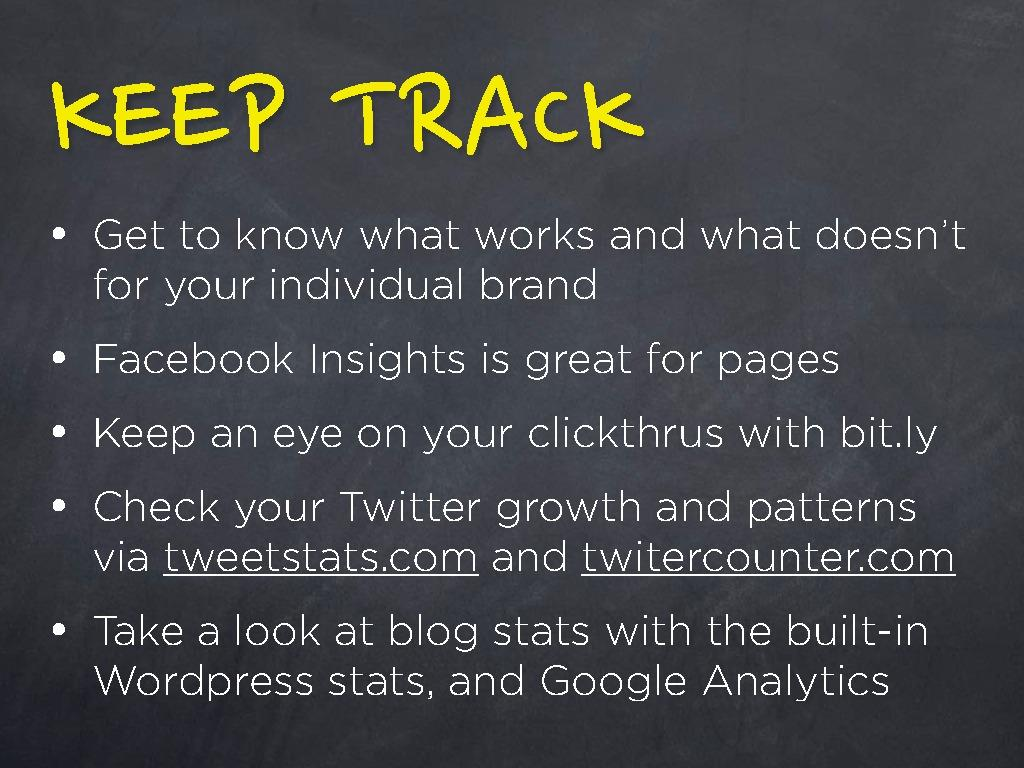paragraph: (35, 198, 984, 716)
title: (24, 36, 681, 179)
